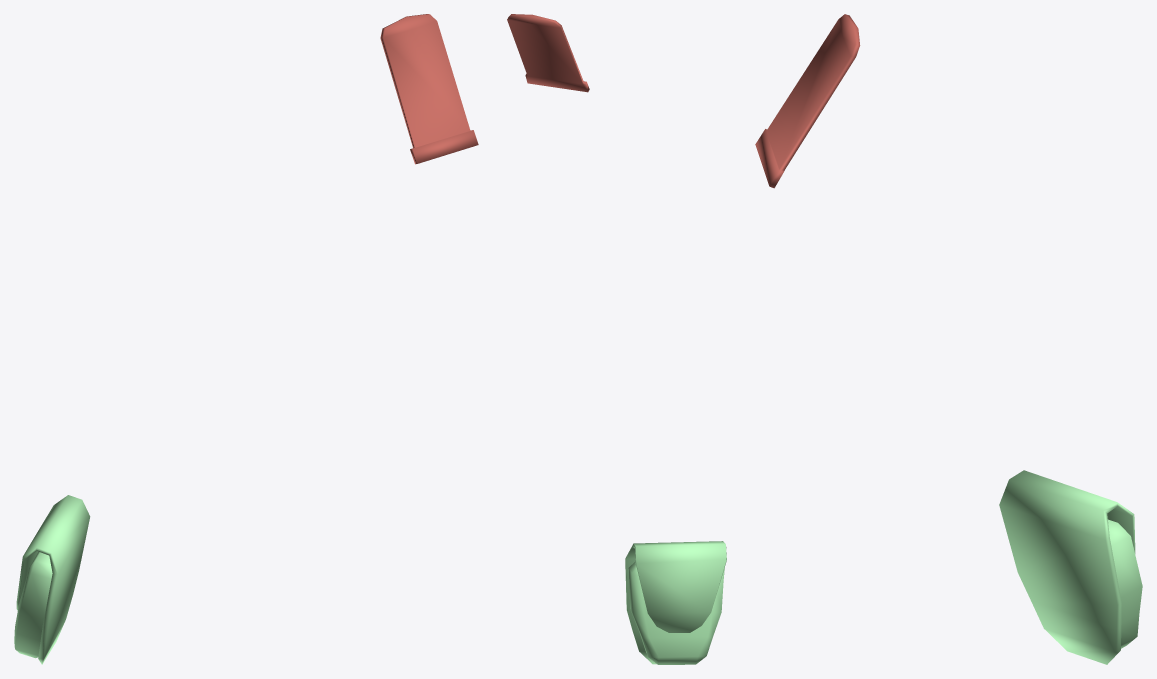
The model's file is addition_3.fbx.
3 renders of one model, left to right at view 1: azimuth 30°, elevation 25°; view 2: azimuth 150°, elevation 25°; view 3: azimuth 270°, elevation 25°, orthographic. The views are drawn at different scales.
Parts seen in each view (by area): view 1: addition_3_lod0; view 2: addition_3_lod0; view 3: addition_3_lod0.
Part boxes in pixels (bbox=[...]): addition_3_lod0: bbox=[14, 14, 478, 664]; addition_3_lod0: bbox=[507, 14, 726, 664]; addition_3_lod0: bbox=[755, 14, 1142, 664].
Size of what is drawn, in the model's own units: 31.59 by 56.18 by 24.87.
